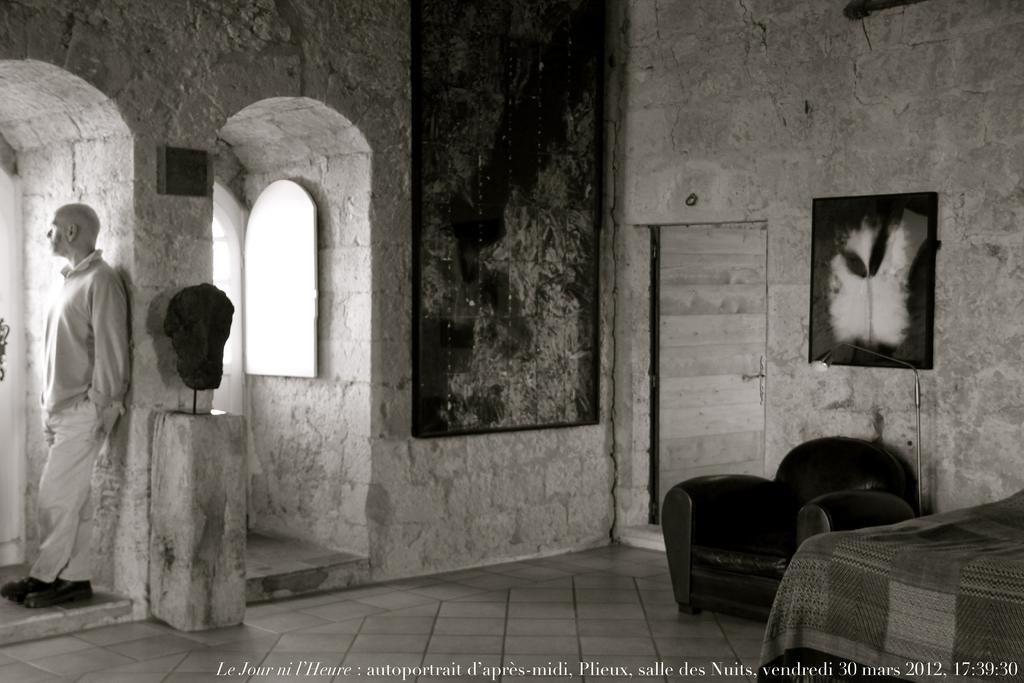Sem Máscara: (44, 213, 62, 253)
